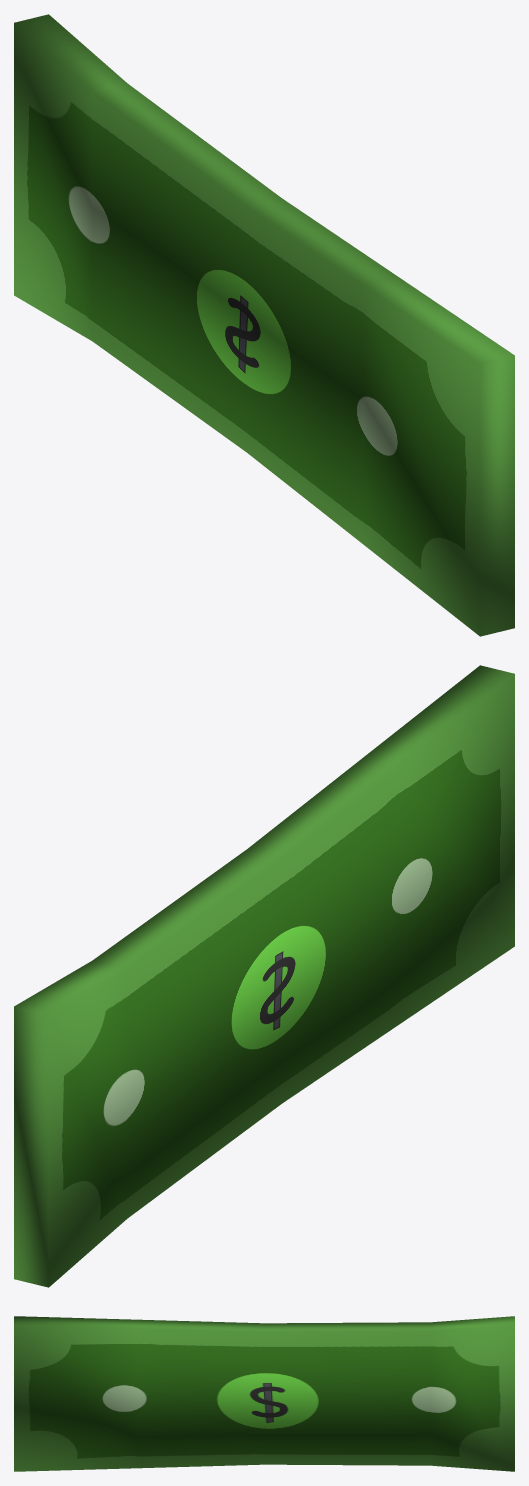
Rendered from notrdd.fbx.
3 renders of one model, top to bottom at view 1: azimuth 30°, elevation 25°; view 2: azimuth 150°, elevation 25°; view 3: azimuth 270°, elevation 25°, orthographic. The views are drawn at different scales.
Visible parts, largest first — view 1: Cube; view 2: Cube; view 3: Cube.
Boxes of the visible parts, box(x1,y1,x2,y2) form: Cube: box(14, 14, 514, 636); Cube: box(14, 665, 514, 1287); Cube: box(14, 1316, 514, 1471).
Bounding box in the file's own units: 4.52 × 33.84 × 105.
